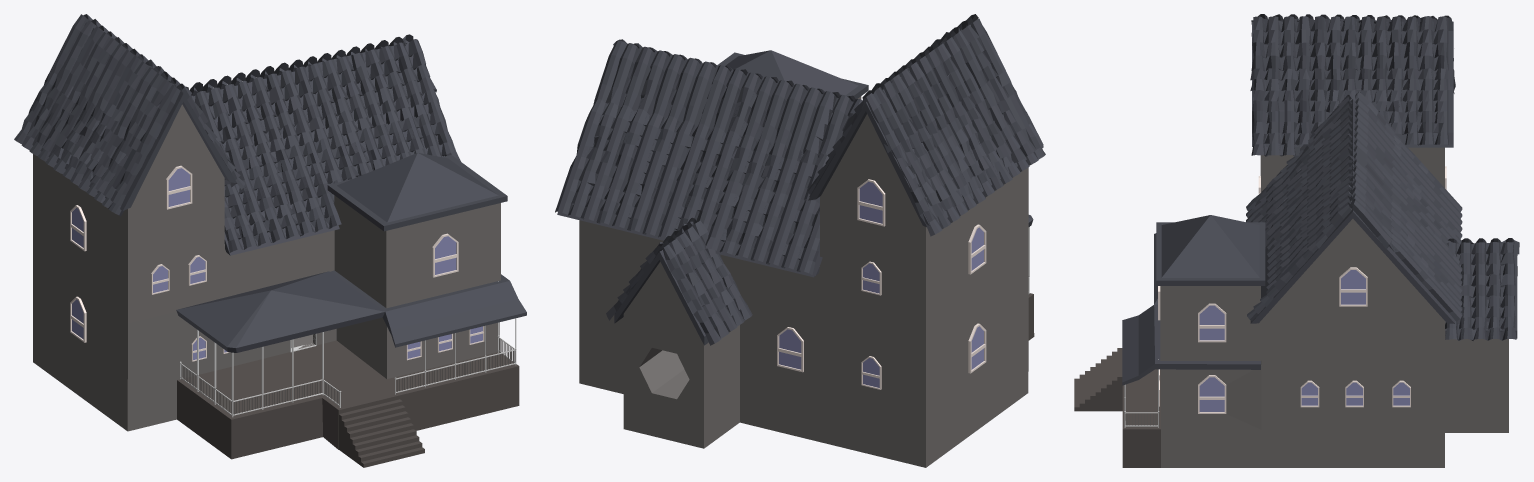
File: Mansion.fbx
3 views of the same model, side by side, from view 1: azimuth 30°, elevation 25°; view 2: azimuth 150°, elevation 25°; view 3: azimuth 270°, elevation 25° (orthographic). The views are drawn at different scales.
Parts seen in each view (by area): view 1: Mansion, Roof; view 2: Mansion, Roof; view 3: Mansion, Roof.
Part boxes in pixels (<box>): Mansion: <box>27,22,526,467</box>; Roof: <box>14,14,460,252</box>; Mansion: <box>557,42,1043,467</box>; Roof: <box>555,14,1045,345</box>; Mansion: <box>1074,21,1517,467</box>; Roof: <box>1246,14,1519,340</box>.
Bounding box in the file's own units: 2827 × 2557 × 3166.
